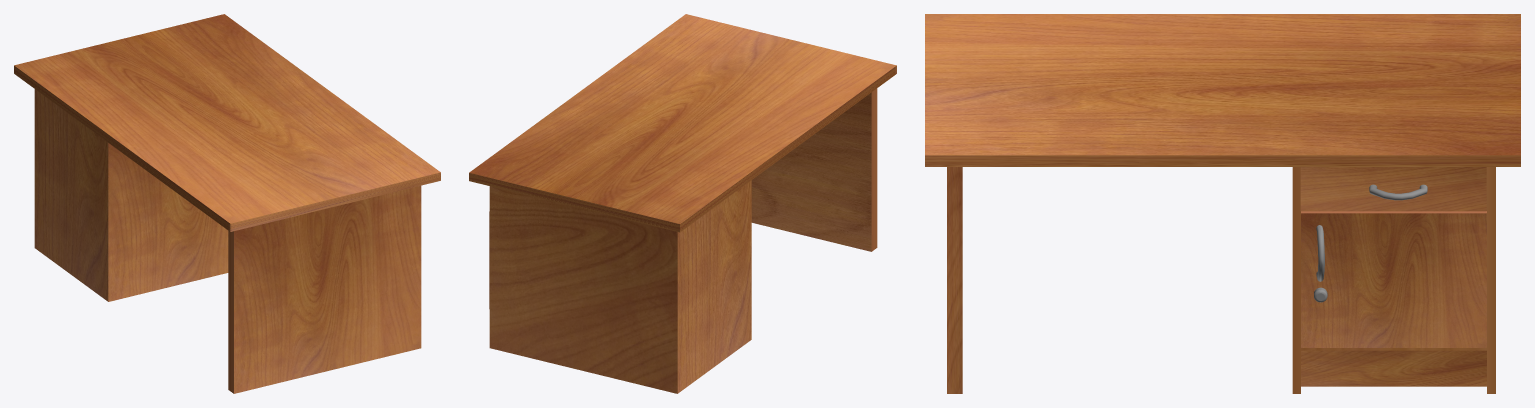
Rendered from biurko_2.fbx.
3 views of the same model, side by side, from view 1: azimuth 30°, elevation 25°; view 2: azimuth 150°, elevation 25°; view 3: azimuth 270°, elevation 25° (orthographic). The views are drawn at different scales.
Parts seen in each view (by area): view 1: Cube; view 2: Cube; view 3: Cube.
Boxes of the visible parts, x1,y1,x2,y2 form: Cube: (14,14,440,393); Cube: (469,14,896,393); Cube: (925,14,1520,393).
Bounding box in the file's own units: 91.53 × 71.53 × 157.
Materials: 2 (1 with a texture image).
